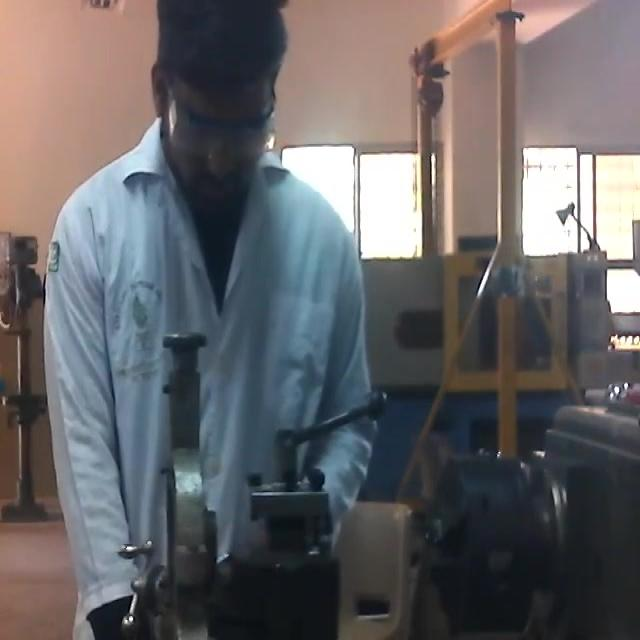googles: (148, 85, 288, 163)
labcoat: (41, 117, 381, 640)
